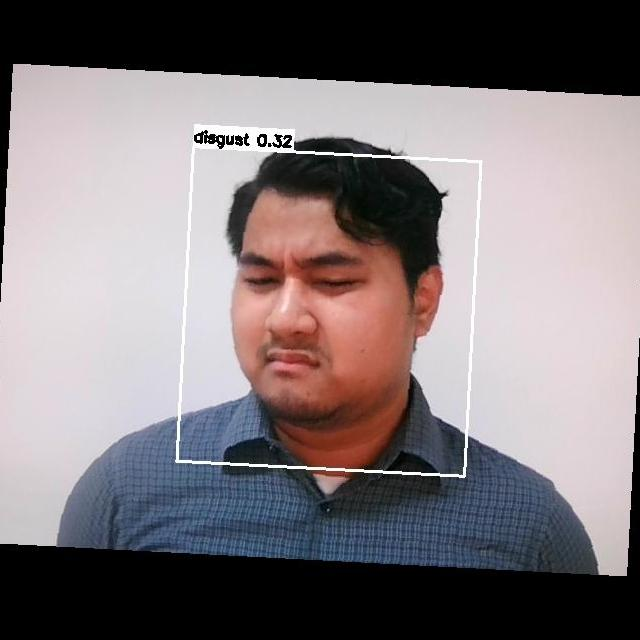Disgust: (219, 226, 402, 414)
